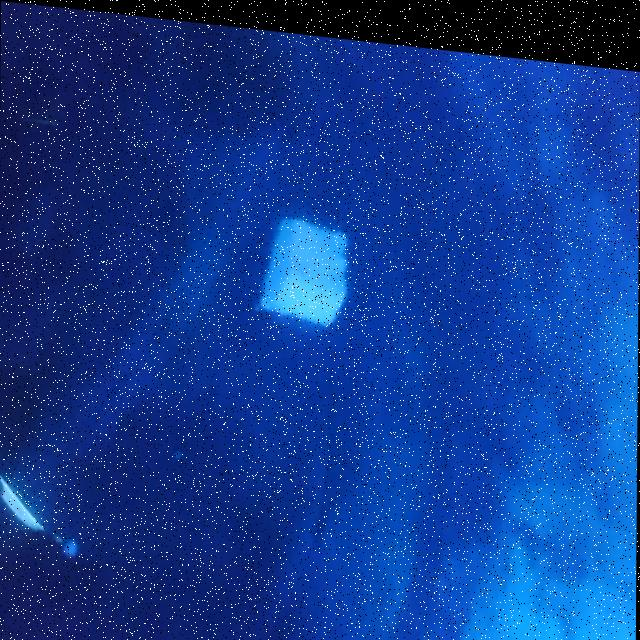thermocoal: (238, 177, 369, 345)
